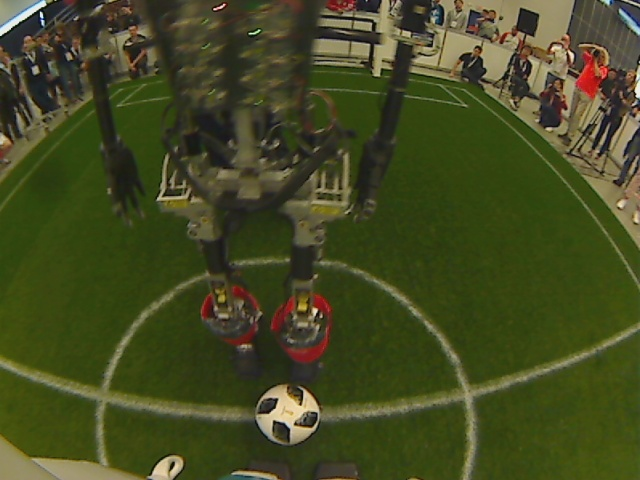ball: (251, 378, 325, 447)
